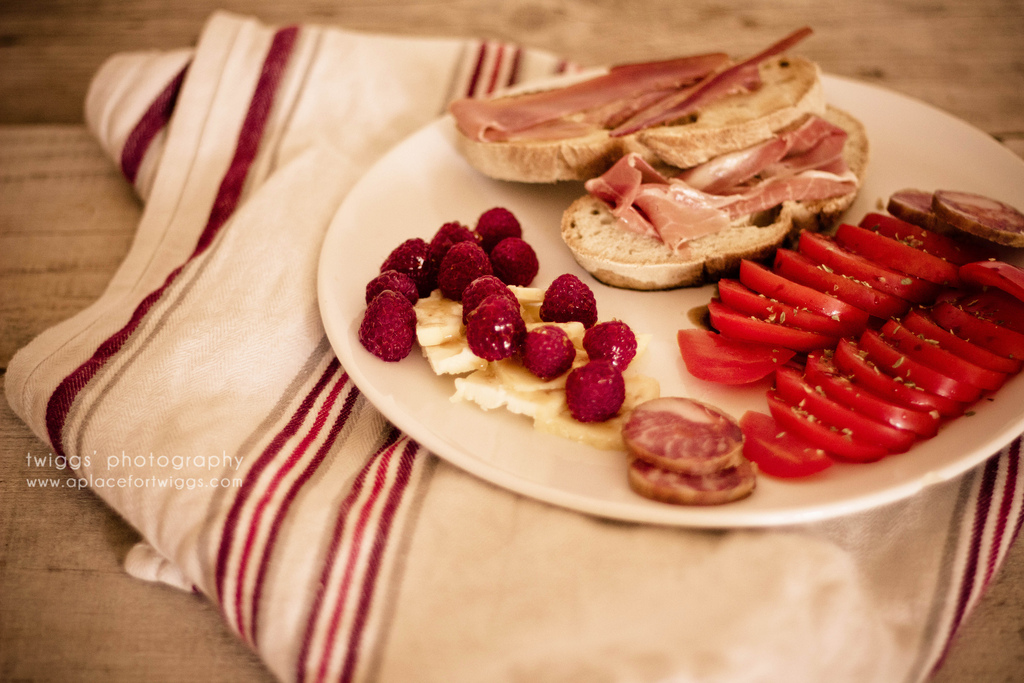slice of bread: (557, 96, 888, 284)
